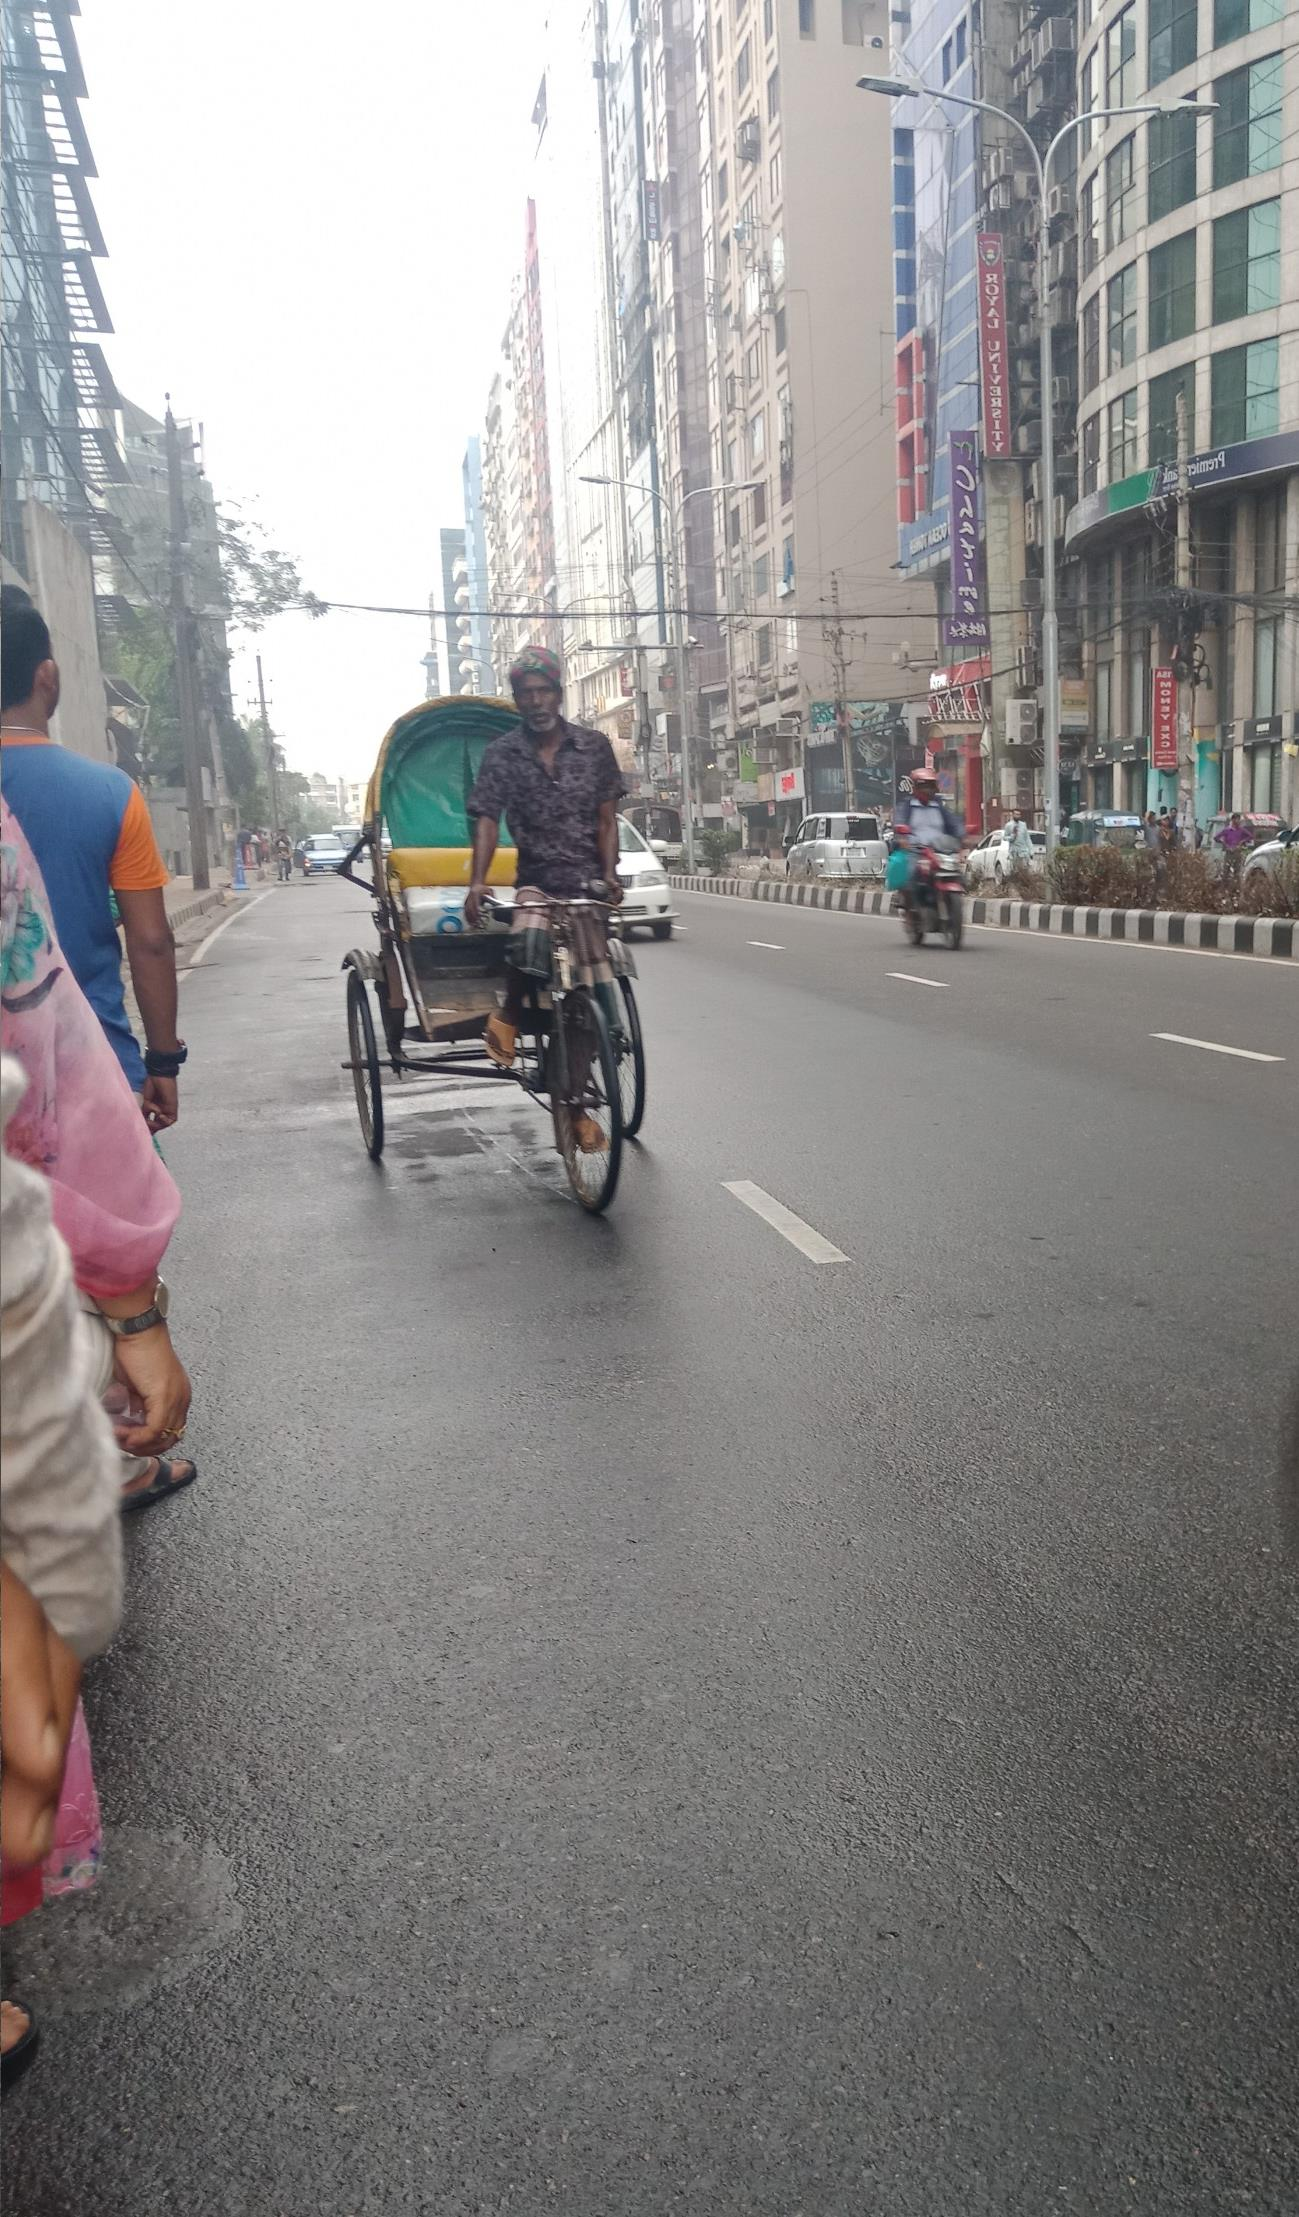Rickshaw: (294, 671, 702, 1234)
